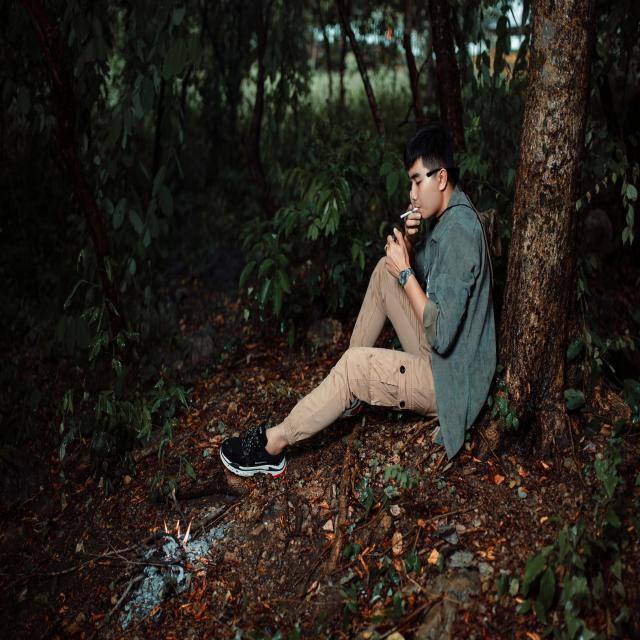lie: (216, 144, 498, 483)
